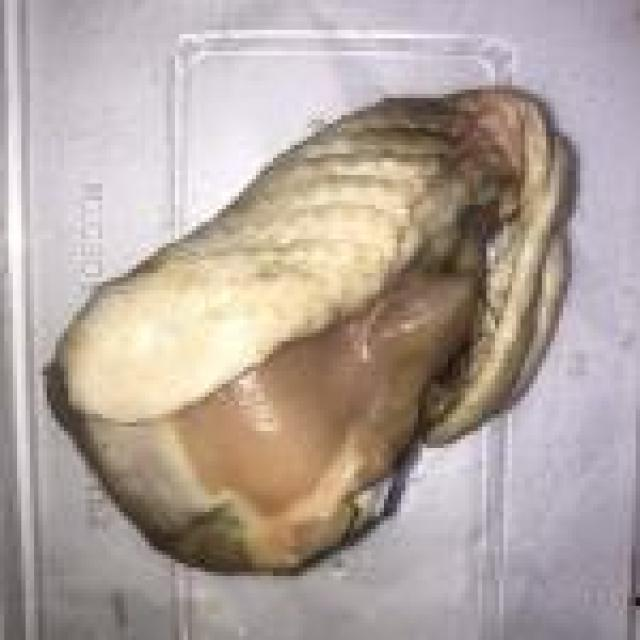breast: (36, 70, 586, 568)
